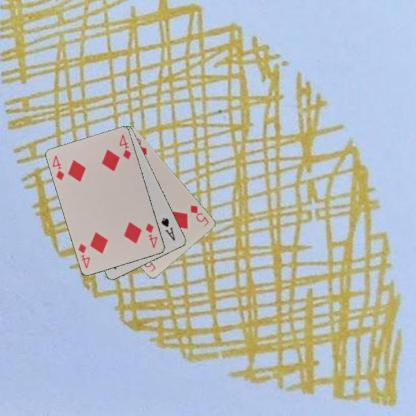4d: (143, 220, 159, 250), (50, 153, 66, 182)
5d: (188, 203, 210, 228)
As: (158, 215, 176, 242)
